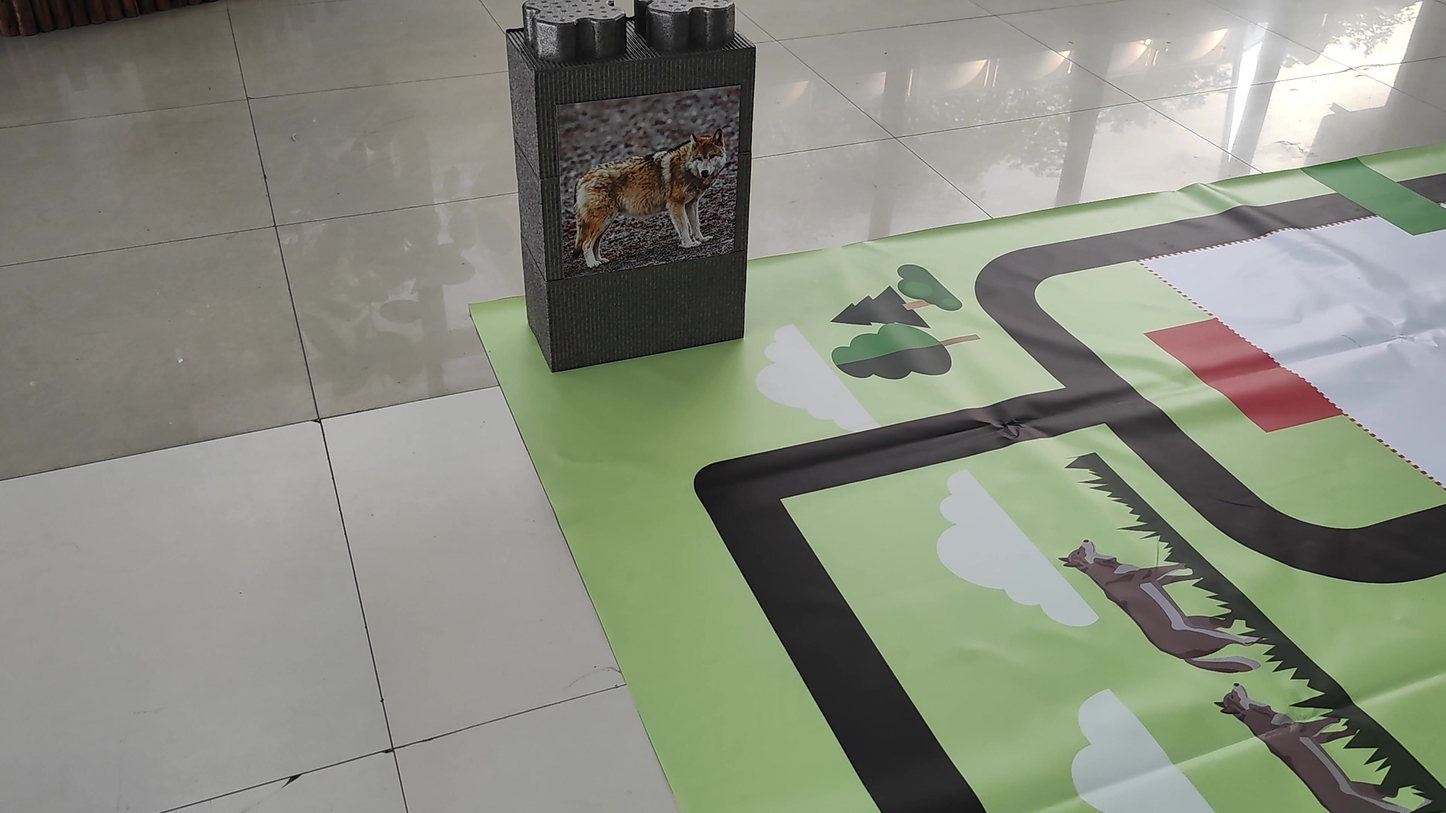wolf: (555, 117, 732, 271)
